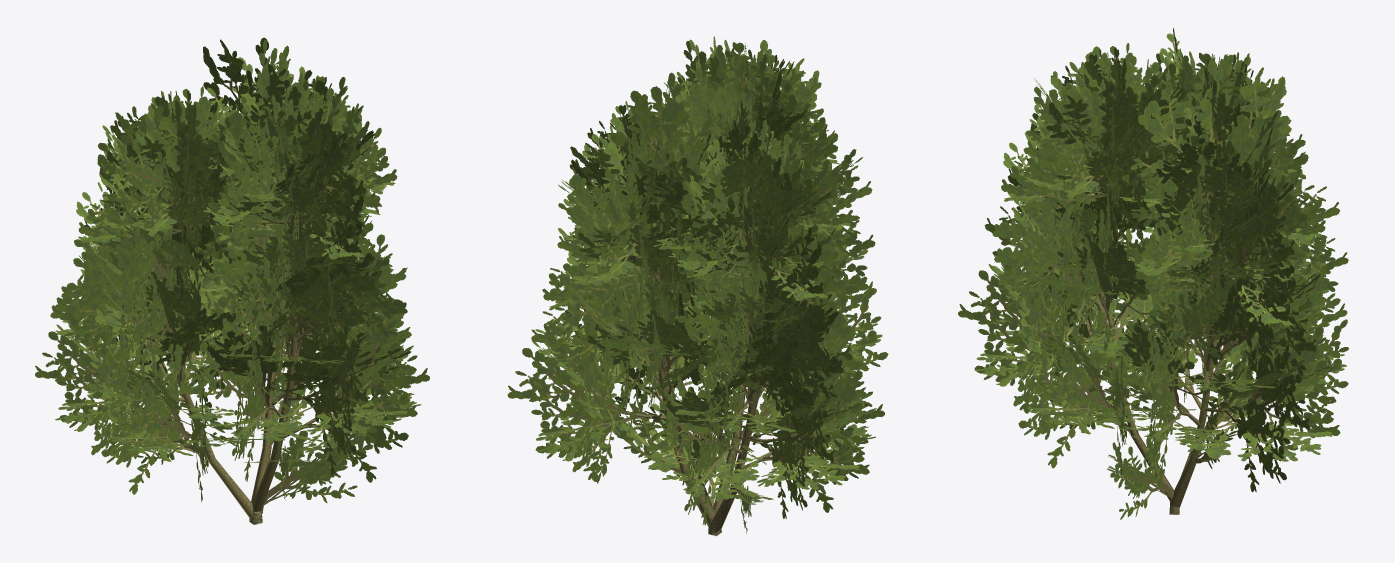
File: FrangulaAlnus.glb
3 renders of one model, left to right at view 1: azimuth 30°, elevation 25°; view 2: azimuth 150°, elevation 25°; view 3: azimuth 270°, elevation 25°, orthographic.
Visible parts, largest first — view 1: Alder_Buckthorn__Realistic_LOD3; view 2: Alder_Buckthorn__Realistic_LOD3; view 3: Alder_Buckthorn__Realistic_LOD3.
Boxes of the visible parts, x1,y1,x2,y2 form: Alder_Buckthorn__Realistic_LOD3: (35, 37, 429, 524); Alder_Buckthorn__Realistic_LOD3: (507, 36, 888, 536); Alder_Buckthorn__Realistic_LOD3: (958, 28, 1349, 519).
Bounding box in the file's own units: 4.99 × 6.88 × 5.37.
1 material, 1 textured.
